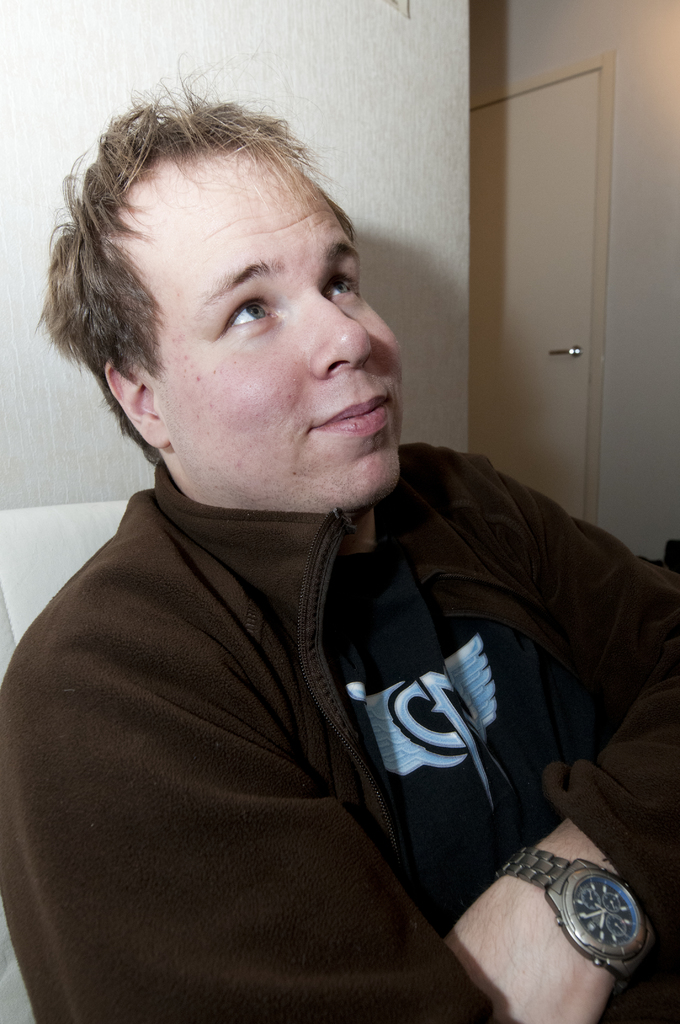watch: (489, 840, 663, 993)
